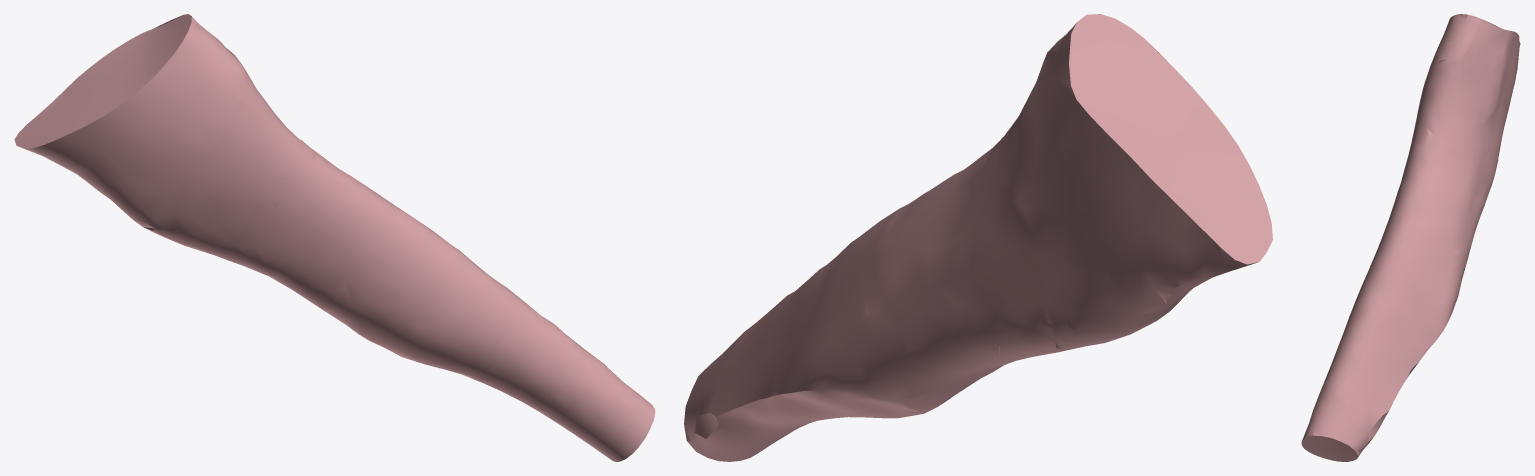
File: fma297826_mm1982m.glb
3 views of the same model, side by side, from view 1: azimuth 30°, elevation 25°; view 2: azimuth 150°, elevation 25°; view 3: azimuth 270°, elevation 25° (orthographic). The views are drawn at different scales.
Visible parts, largest first — view 1: FMA297826_MM1982M; view 2: FMA297826_MM1982M; view 3: FMA297826_MM1982M.
Boxes of the visible parts, x1,y1,x2,y2 form: FMA297826_MM1982M: (14,14,655,461); FMA297826_MM1982M: (684,14,1272,461); FMA297826_MM1982M: (1301,14,1520,461).
Size of the model in its own units: 0.0286 by 0.0244 by 0.0147.
